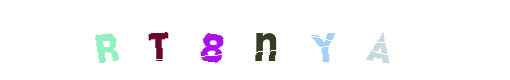8: (172, 0, 252, 80)
A: (295, 0, 375, 80)
N: (216, 0, 296, 80)
R: (67, 0, 147, 80)
T: (118, 0, 198, 80)
Y: (225, 0, 305, 80)
